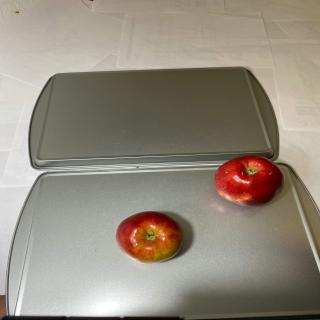Apple: (214, 155, 285, 207), (115, 211, 183, 264)
